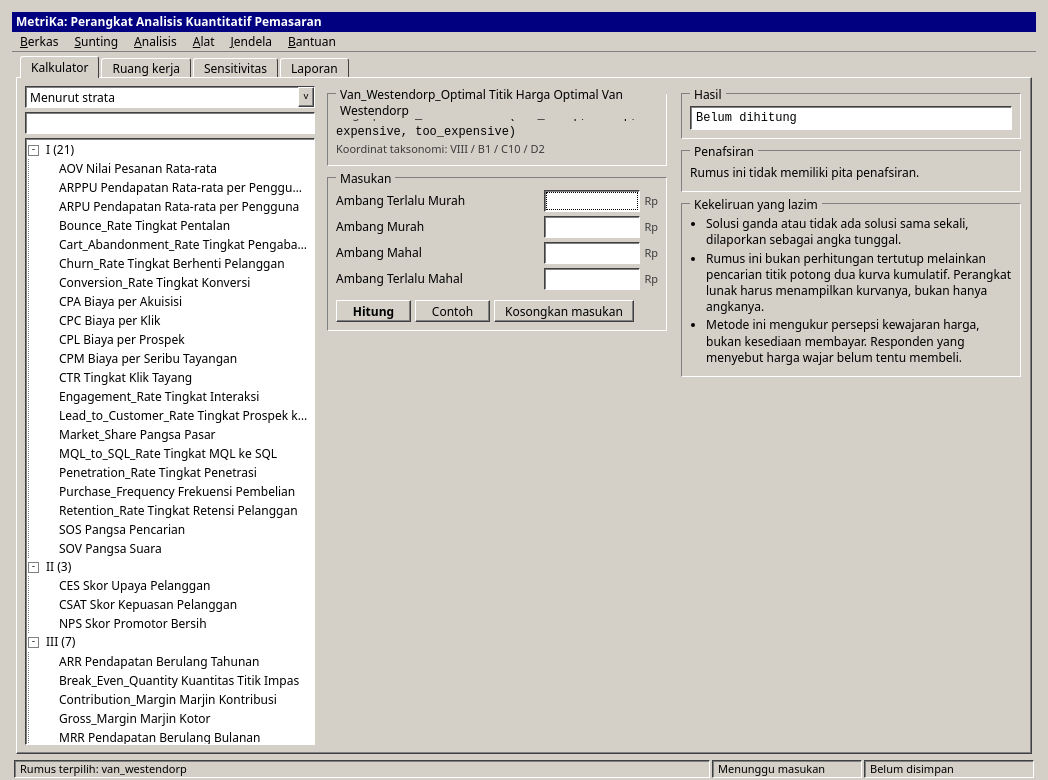
Test: the Van Westendorp four-curve plot › marks the four crossings with the prices the table prints
Click the button "Contoh": (452, 311) [415,300,490,322]
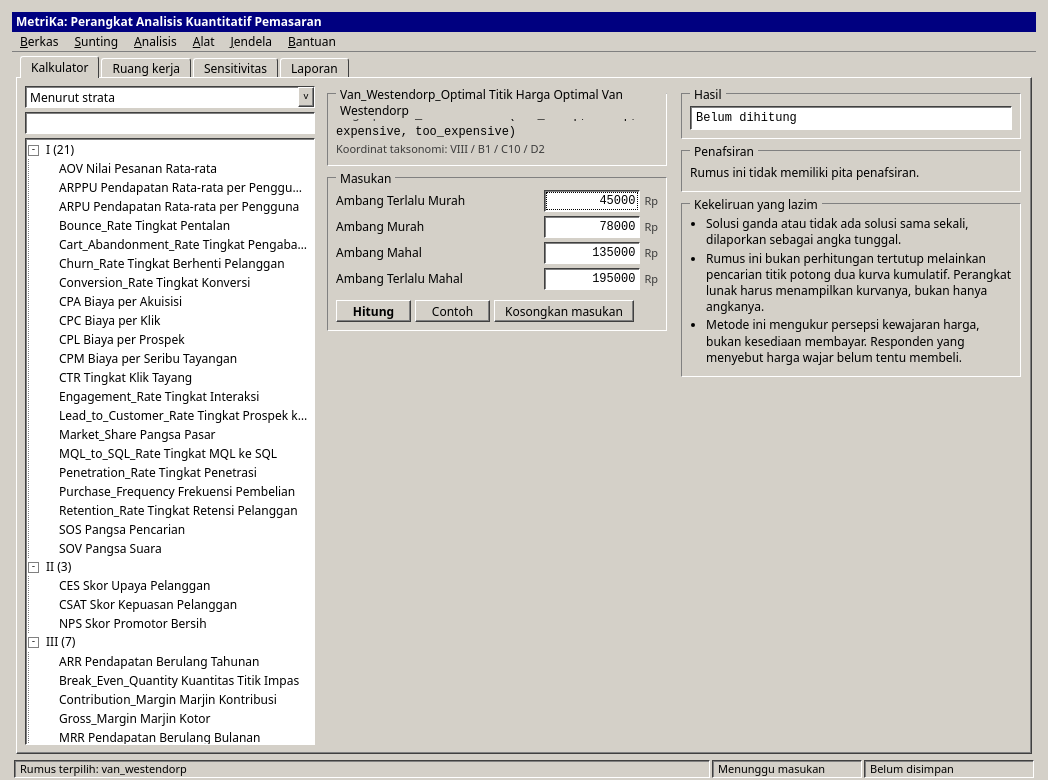
Click the button "Hitung": (374, 311) [336,300,411,322]
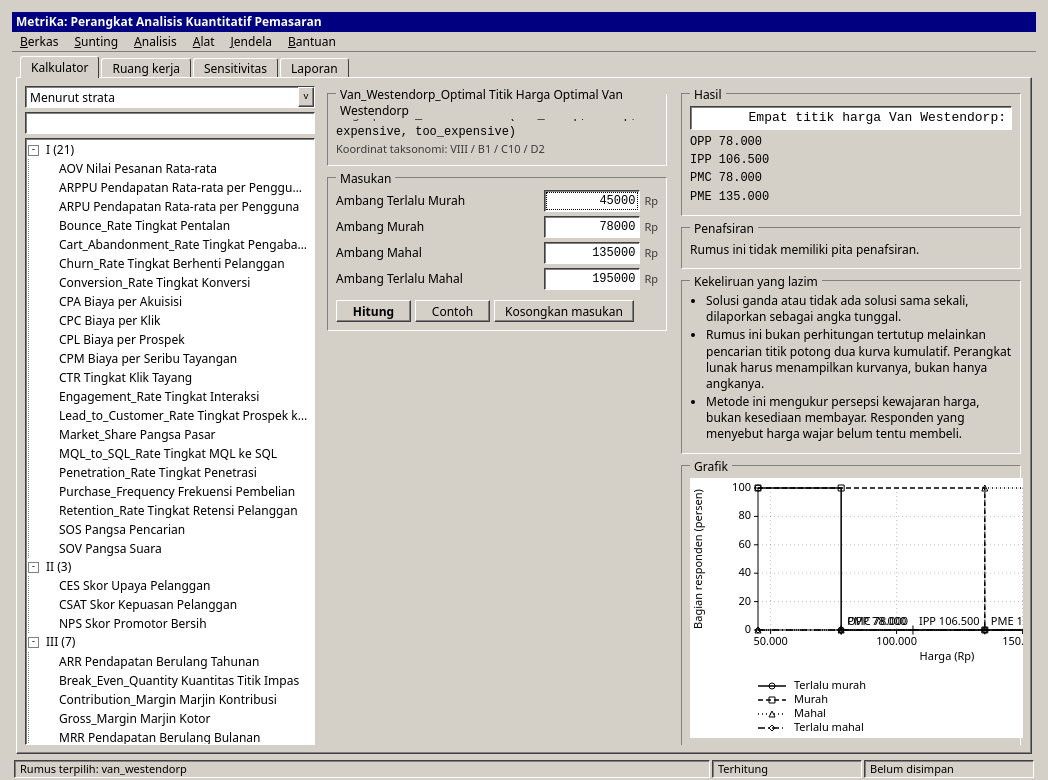
Check: the picture with class "mk-chart" is shown, box [690,478,1023,738]
